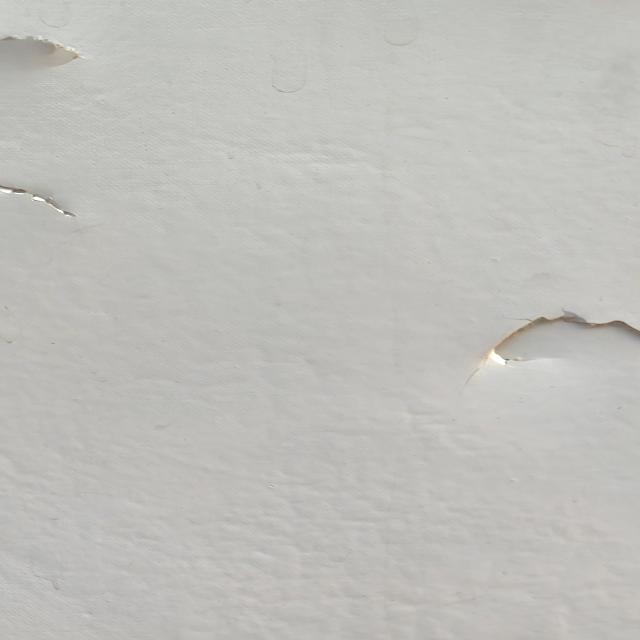Scratches: (477, 285, 640, 394), (1, 175, 110, 233), (1, 21, 98, 79)
